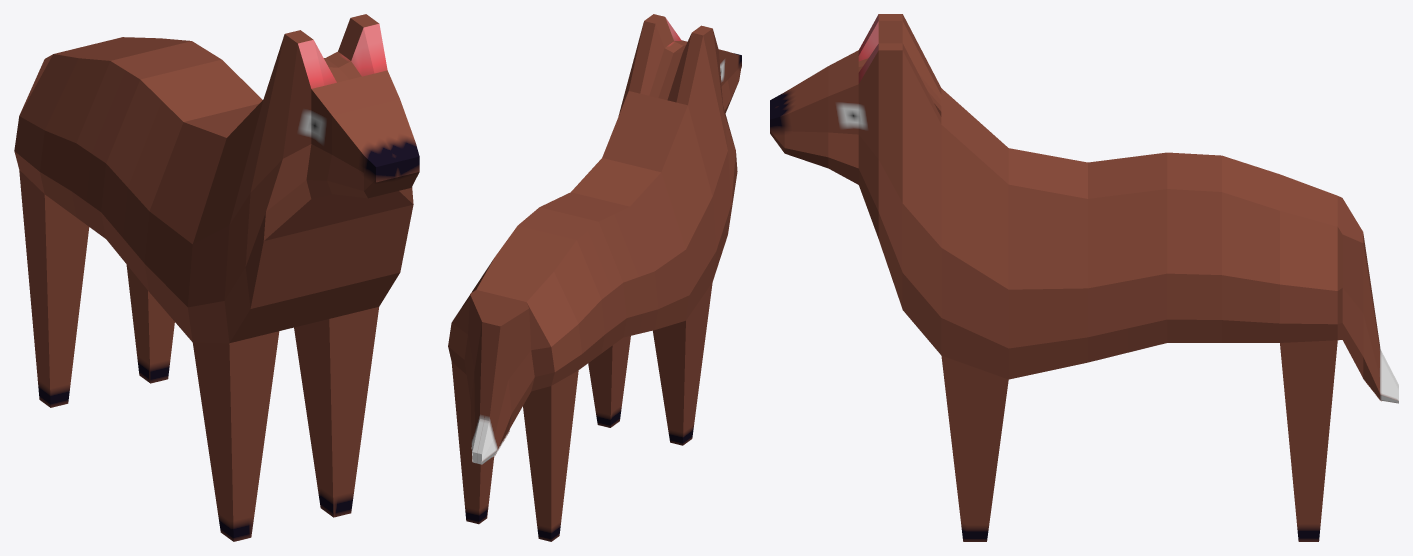
File: doggers.fbx
3 views of the same model, side by side, from view 1: azimuth 30°, elevation 25°; view 2: azimuth 150°, elevation 25°; view 3: azimuth 270°, elevation 25° (orthographic). The views are drawn at different scales.
Visible parts, largest first — view 1: Doggers; view 2: Doggers; view 3: Doggers.
Boxes of the visible parts, box(x1,y1,x2,y2) form: Doggers: box(14, 14, 419, 541); Doggers: box(448, 14, 741, 541); Doggers: box(770, 14, 1398, 541).
Size of the model in its own units: 2.56 by 8.1 by 9.55.
